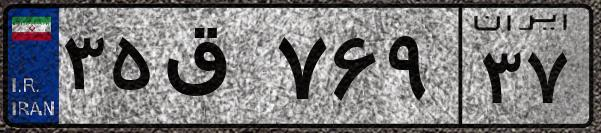3: (57, 26, 110, 100), (475, 38, 525, 113)
5: (110, 28, 158, 98)
6: (330, 28, 385, 110)
7: (270, 28, 330, 110), (525, 38, 570, 115)
9: (385, 28, 445, 110)
ق: (158, 20, 270, 120)
